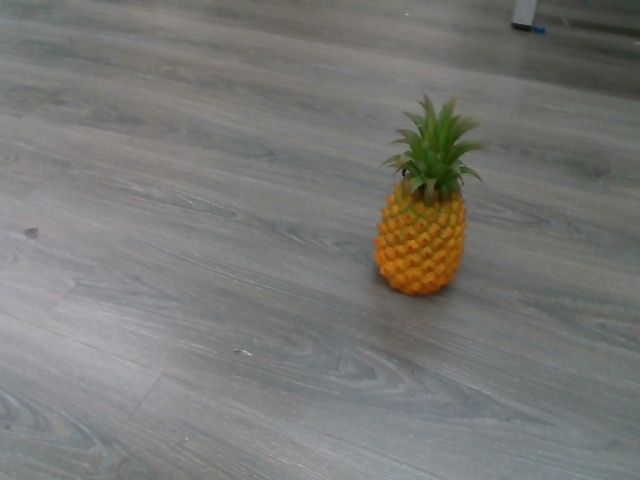pineapple: (371, 92, 487, 294)
